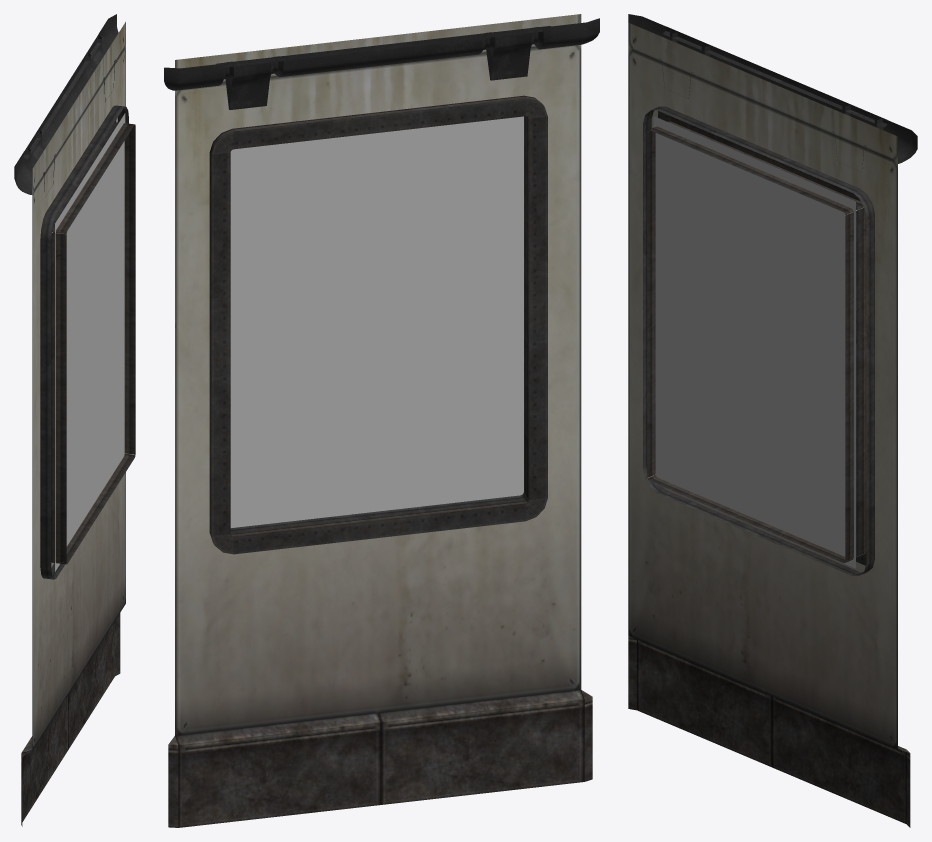
The model's file is lab_window_security_special.dae.
3 renders of one model, left to right at view 1: azimuth 30°, elevation 25°; view 2: azimuth 150°, elevation 25°; view 3: azimuth 270°, elevation 25°, orthographic. The views are drawn at different scales.
Parts seen in each view (by area): view 1: lab_window_security_special, glass__4_; view 2: lab_window_security_special, glass__4_; view 3: lab_window_security_special, glass__4_.
Part boxes in pixels (x1,y1,x2,y2): lab_window_security_special: (14, 14, 135, 826); glass__4_: (55, 113, 125, 571); lab_window_security_special: (164, 14, 599, 827); glass__4_: (230, 116, 523, 527); lab_window_security_special: (628, 14, 917, 827); glass__4_: (653, 116, 855, 568).
Size of the model in its own units: 1.52 by 4 by 1.52.
